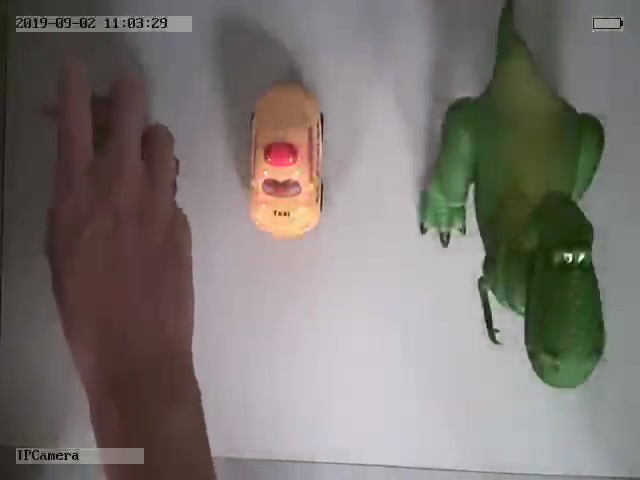car: (246, 82, 327, 240)
rex: (420, 11, 607, 390)
